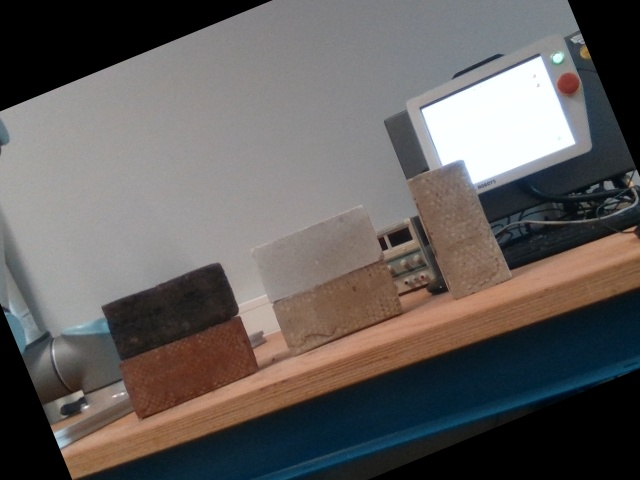brick: (407, 157, 512, 300), (118, 317, 258, 415), (103, 262, 238, 358), (253, 206, 382, 300), (274, 263, 403, 356)
